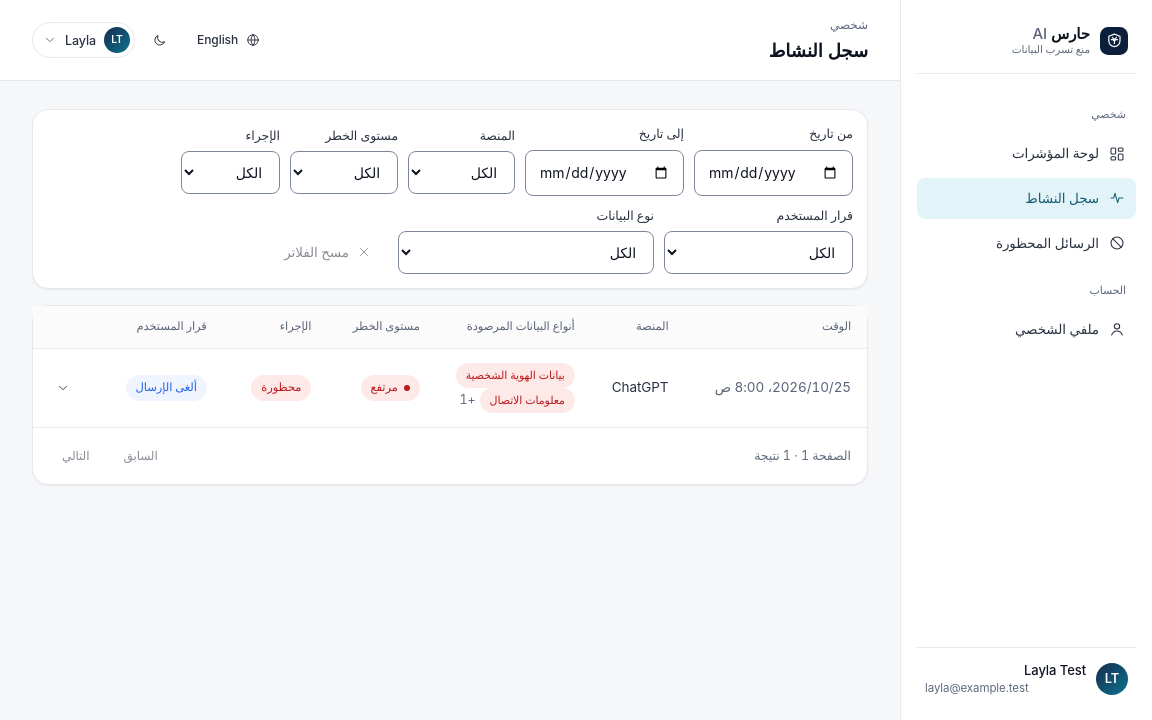
activity and blocked pages › a row opens to show all its data types, never message text
Click the button named "عرض تفاصيل رسالة" at (63, 388), box [49,374,77,402]
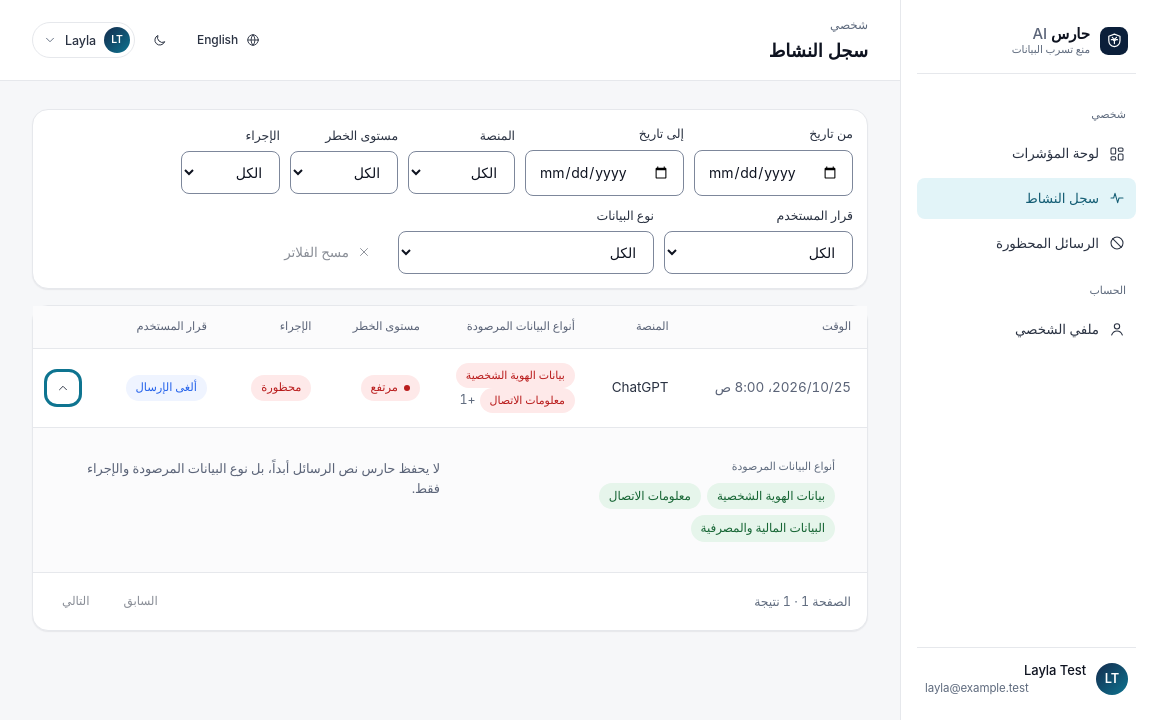
Expected: the text "لا يحفظ حارس نص الرسائل أبداً" is shown, [87,460,440,496]
